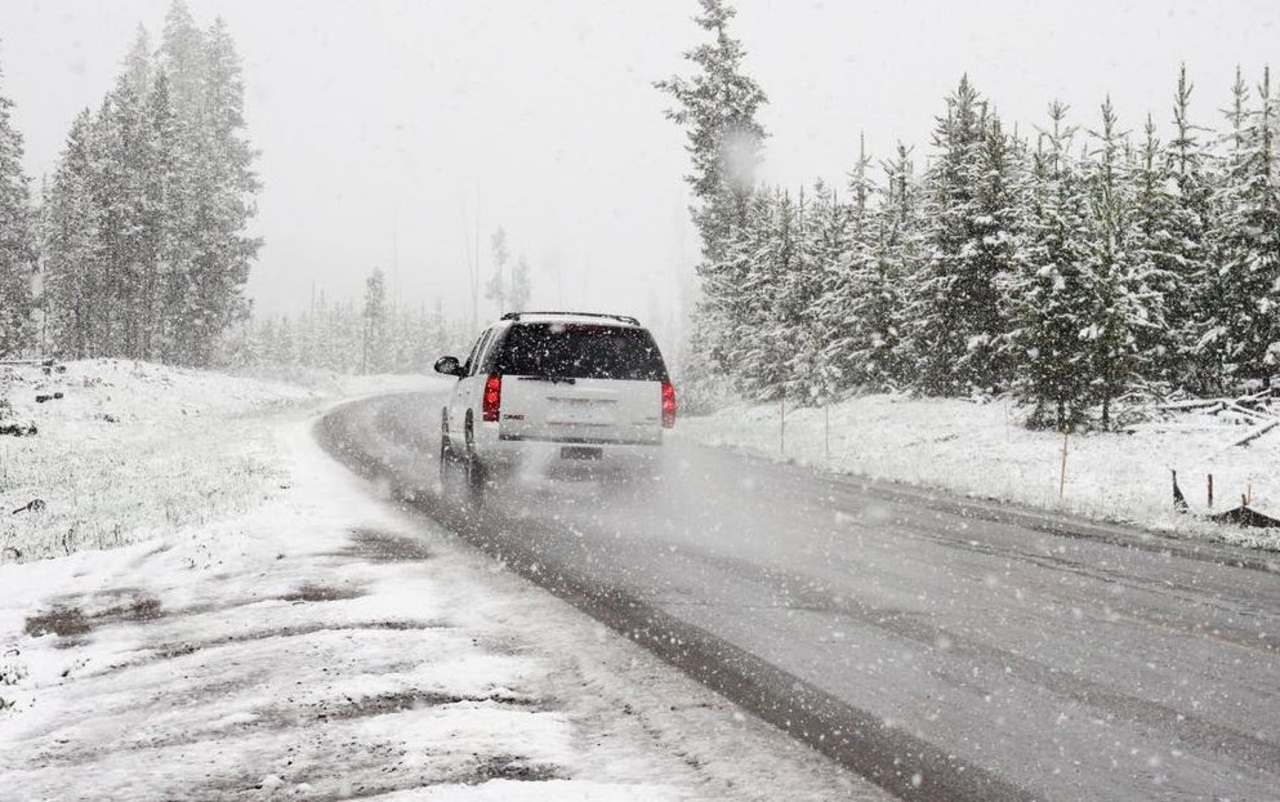car: (431, 314, 673, 482)
